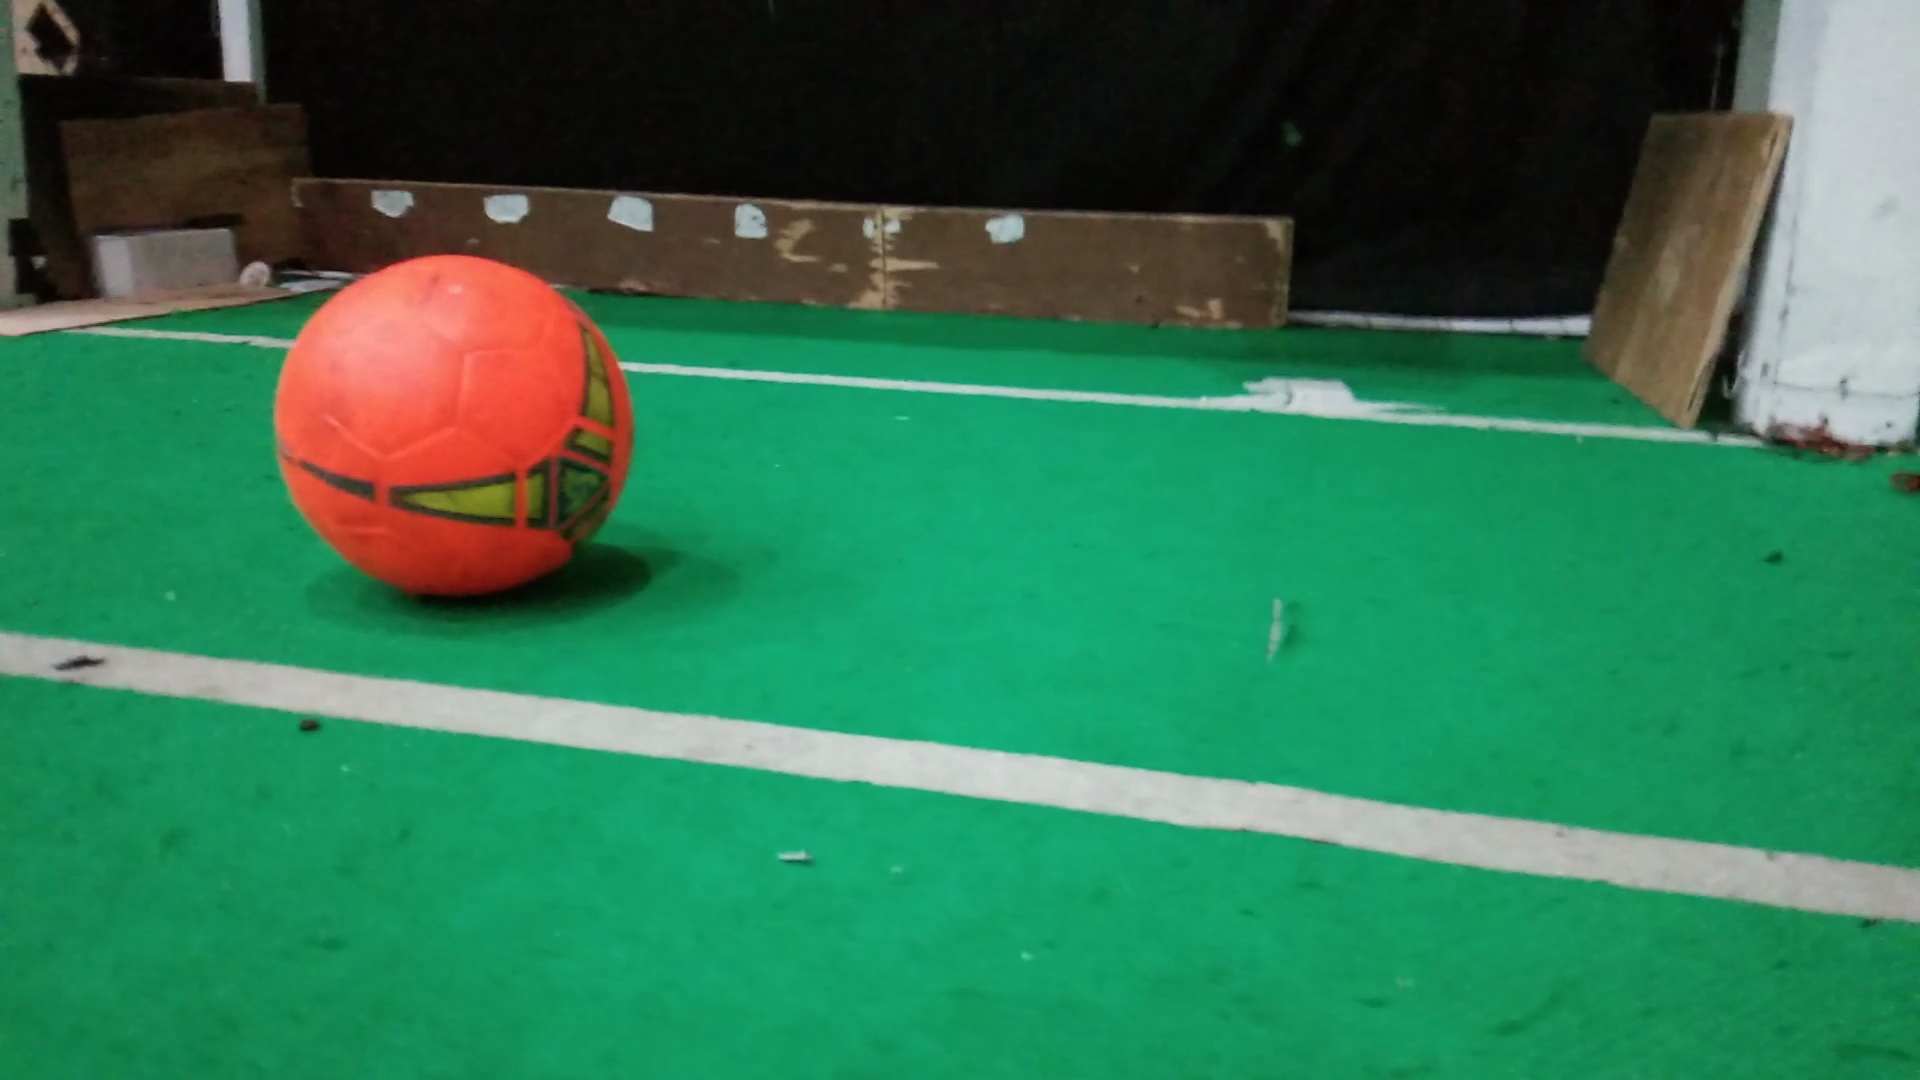bola: (258, 243, 651, 613)
